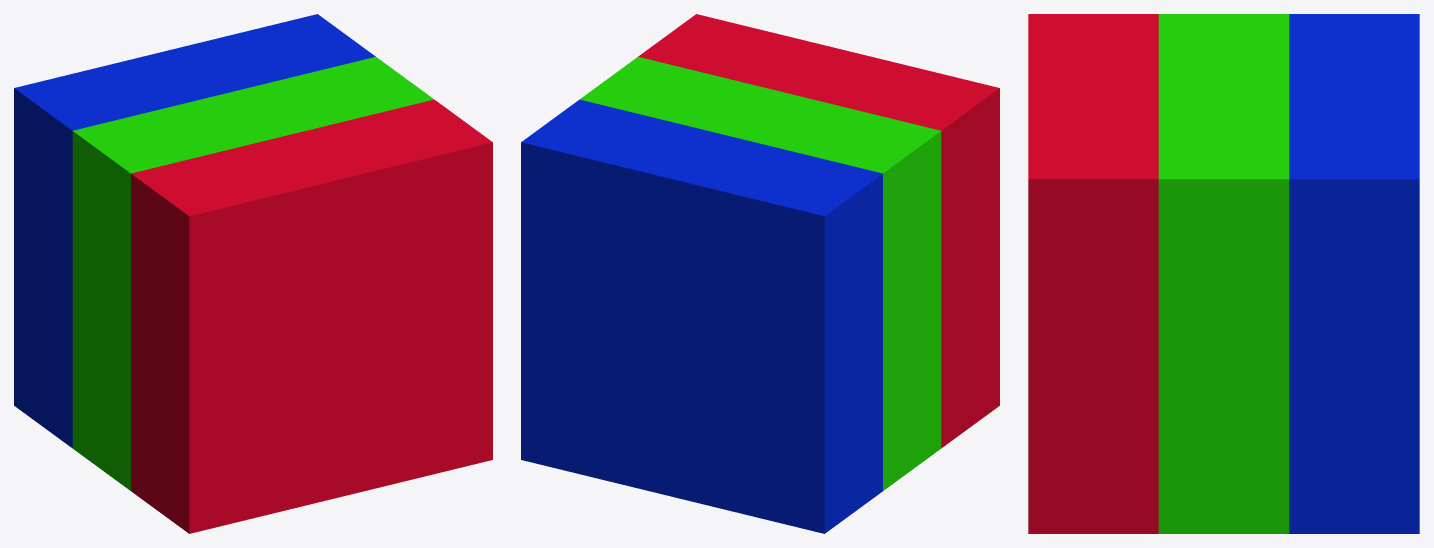
Rendered from RainbowCube.fbx.
3 renders of one model, left to right at view 1: azimuth 30°, elevation 25°; view 2: azimuth 150°, elevation 25°; view 3: azimuth 270°, elevation 25°, orthographic. The views are drawn at different scales.
Parts seen in each view (by area): view 1: Cube; view 2: Cube; view 3: Cube.
Part boxes in pixels (box(x1,y1,x2,y2)): Cube: box(14, 14, 492, 533); Cube: box(521, 14, 999, 533); Cube: box(1028, 14, 1419, 533).
Size of the model in its own units: 200 by 200 by 200.
